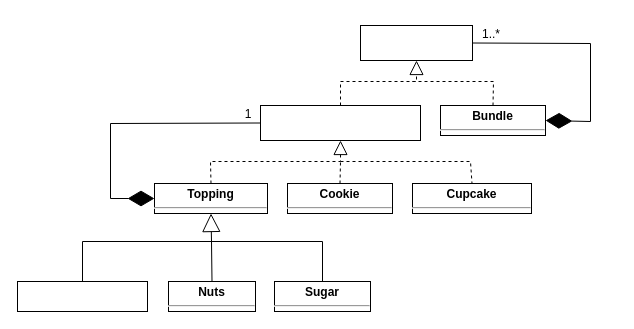
The diagram is 634 pixels wide and 329 high, and some of its shapes have lost their labels. The shapes that lost their labels are listed below. From the top down, each one's centre as x and y in pixels, then its label:
At point (416, 42): "<<interface>> Product".
At point (340, 122): "<<interface>> Confectionary".
At point (82, 296): "Chocolate".
